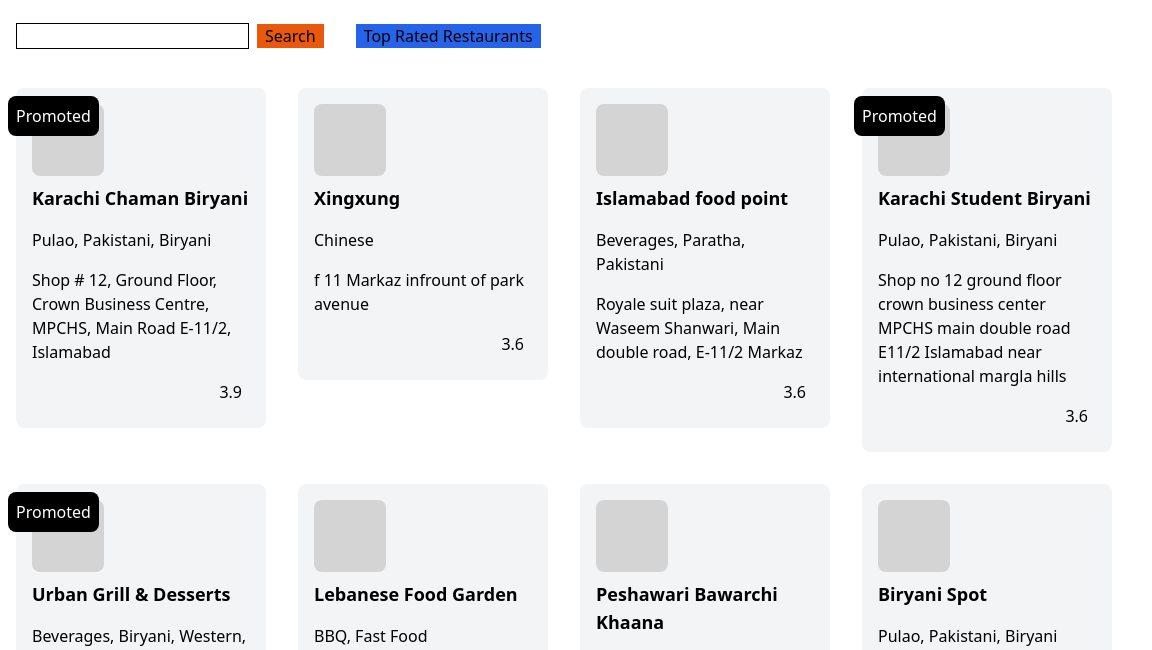
Scenario: Should render 3 restaurnt cards when Top Rated Restaurants clicked
This screenshot has width=1152, height=650.
What coordinates should you click on to do the following:
click the button "Top Rated Restaurants"
I would click on:
 (448, 36)
Its box is [356, 24, 541, 48].
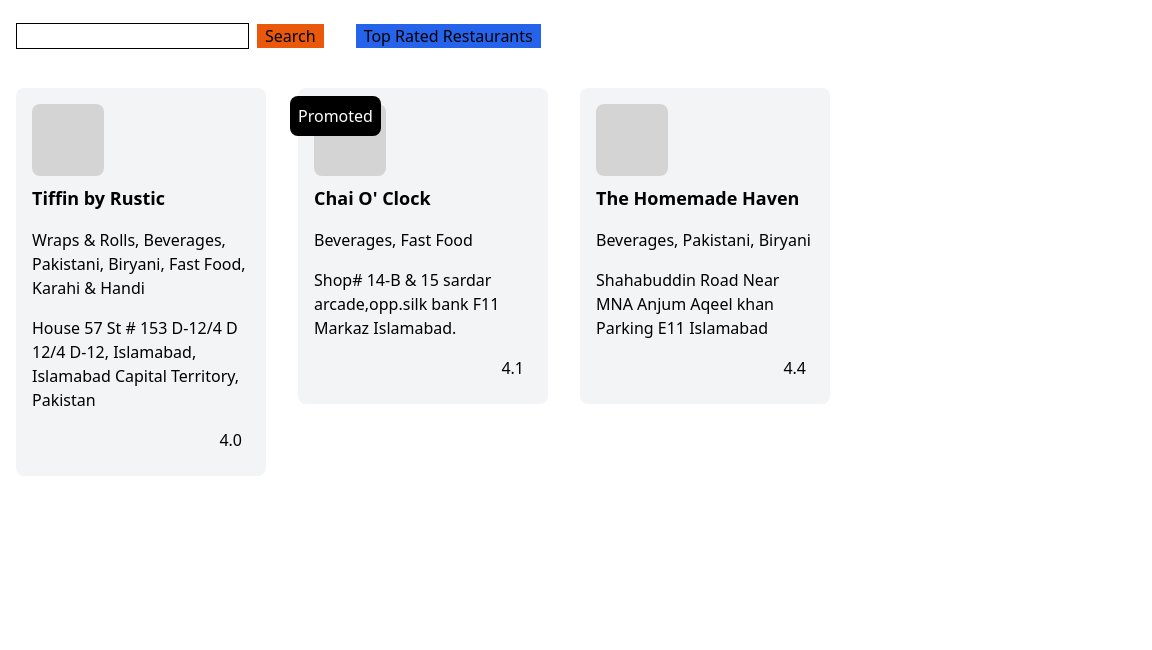
Now the number of elements with test id "rest-card" is 3, box [16, 88, 266, 476]; [298, 88, 548, 404]; [580, 88, 830, 404]
